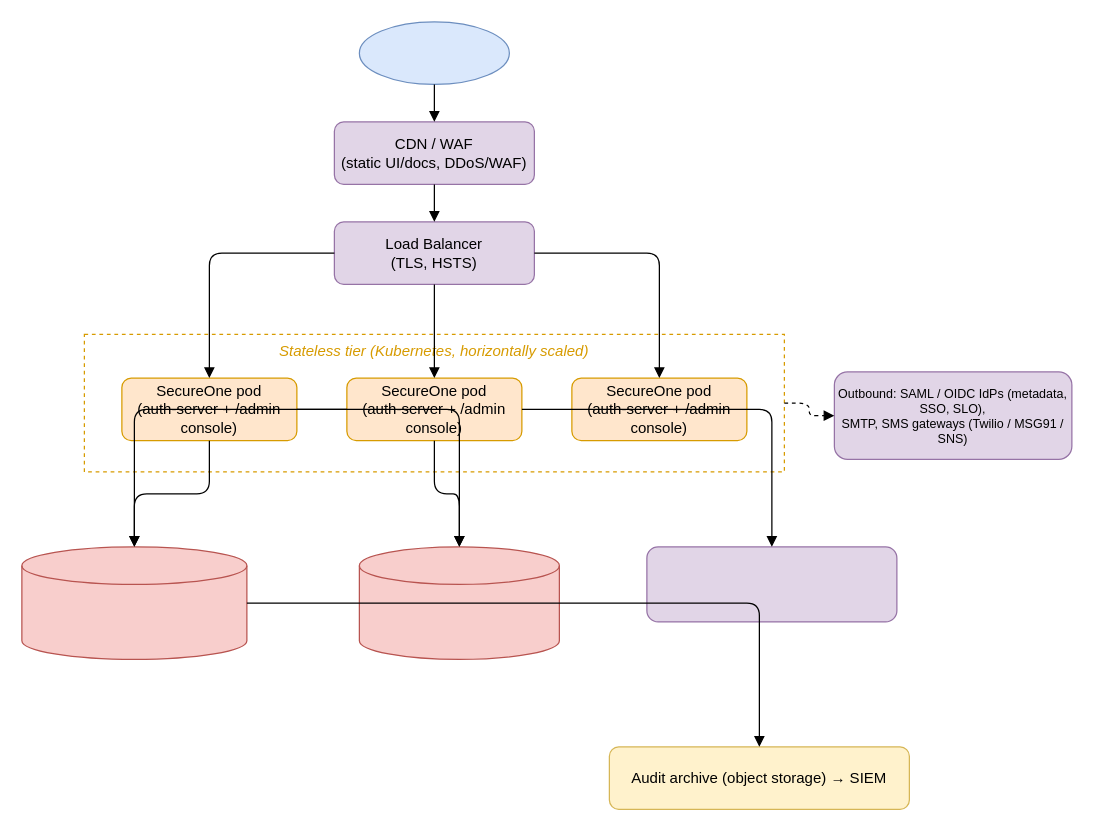
Image size: 1094x831. Some labels were removed from this diagram. The shapes that lost their labels are listed below. From the top down, each one's box as (x1, y1, x2, y2) in pixels, then its label:
(358, 21, 509, 84): Internet
(21, 546, 247, 659): PostgreSQL primary (HA + read replicas, PgBouncer)
(358, 546, 559, 659): Redis cluster (sessions, revoke, rate-limit)
(646, 546, 897, 622): Secrets Manager / KMS (secrets key, JWT + SAML SP keys)
